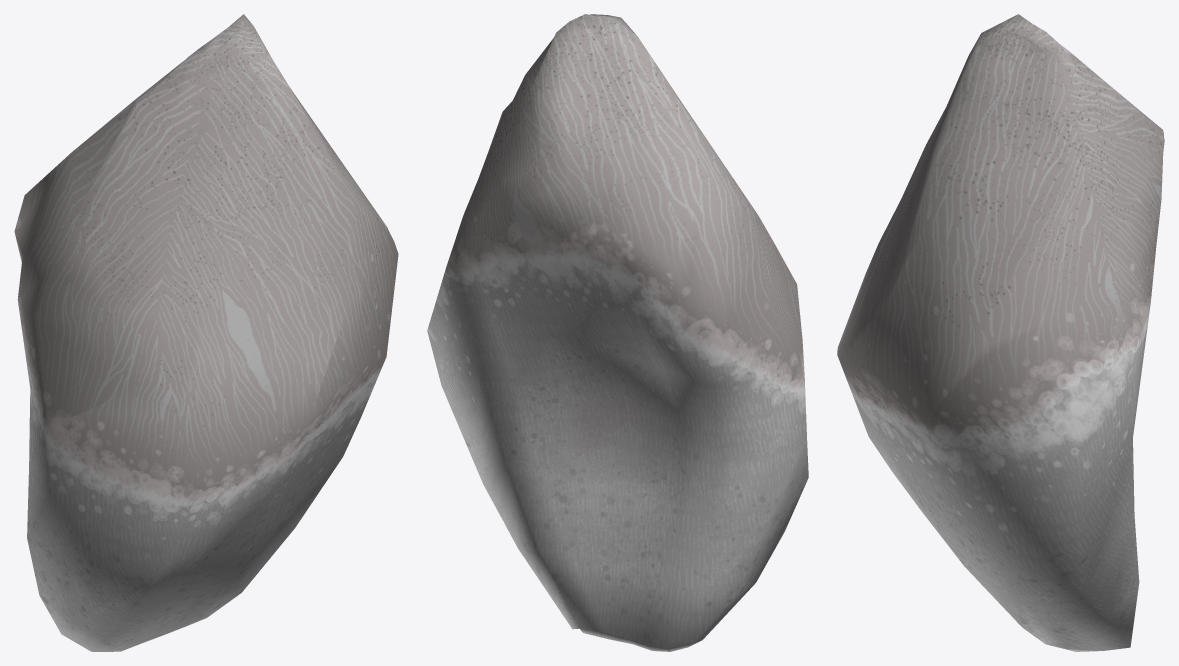
File: Low_Poly_Rock_illustrated.glb
3 views of the same model, side by side, from view 1: azimuth 30°, elevation 25°; view 2: azimuth 150°, elevation 25°; view 3: azimuth 270°, elevation 25° (orthographic). The views are drawn at different scales.
Parts seen in each view (by area): view 1: Rock4_low_Rock_0; view 2: Rock4_low_Rock_0; view 3: Rock4_low_Rock_0.
Part boxes in pixels (x1,y1,x2,y2): Rock4_low_Rock_0: [14, 14, 398, 651]; Rock4_low_Rock_0: [427, 14, 808, 651]; Rock4_low_Rock_0: [837, 14, 1164, 651].
Size of the model in its own units: 401 by 662 by 301.
1 material, 1 textured.
